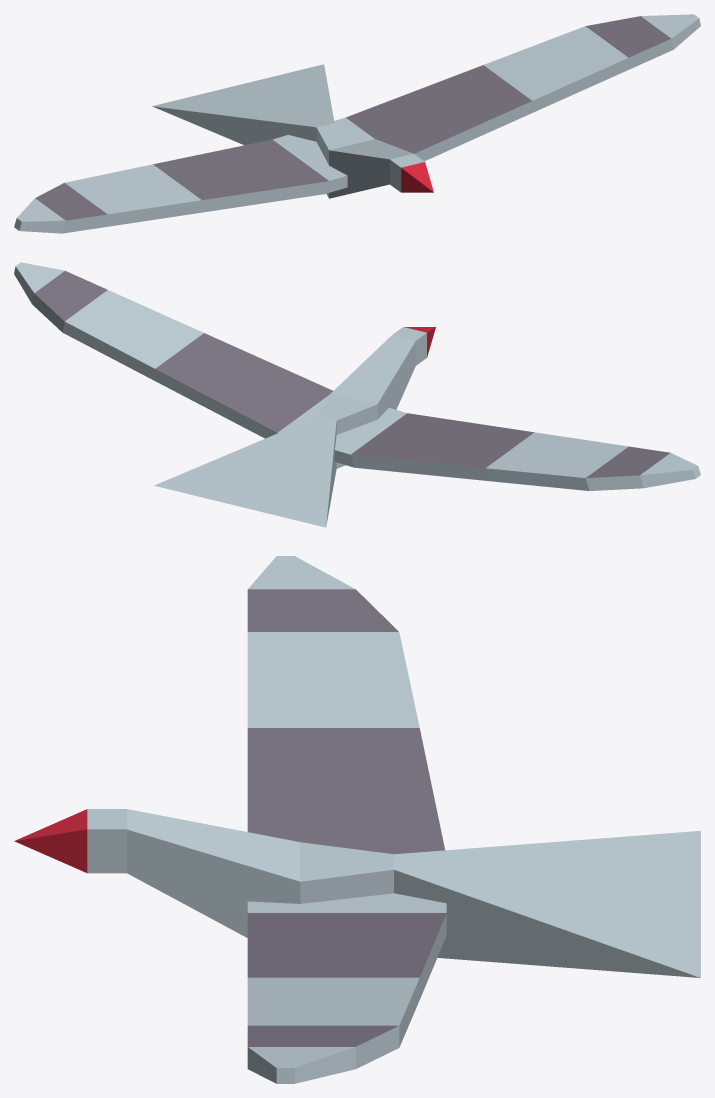
Rendered from bird1.fbx.
The picture shows the model from 3 angles, top to bottom: view 1: azimuth 30°, elevation 25°; view 2: azimuth 150°, elevation 25°; view 3: azimuth 270°, elevation 25°; orthographic projection. The views are drawn at different scales.
Parts seen in each view (by area): view 1: Cube.001, Cube; view 2: Cube.001, Cube; view 3: Cube.001, Cube.
Boxes of the visible parts, box(x1,y1,x2,y2) form: Cube.001: box(14, 14, 700, 233); Cube: box(152, 64, 433, 198); Cube.001: box(14, 262, 700, 490); Cube: box(154, 327, 435, 527); Cube.001: box(247, 556, 446, 1083); Cube: box(14, 809, 700, 977).
Bounding box in the file's own units: 650 × 88.26 × 324.
